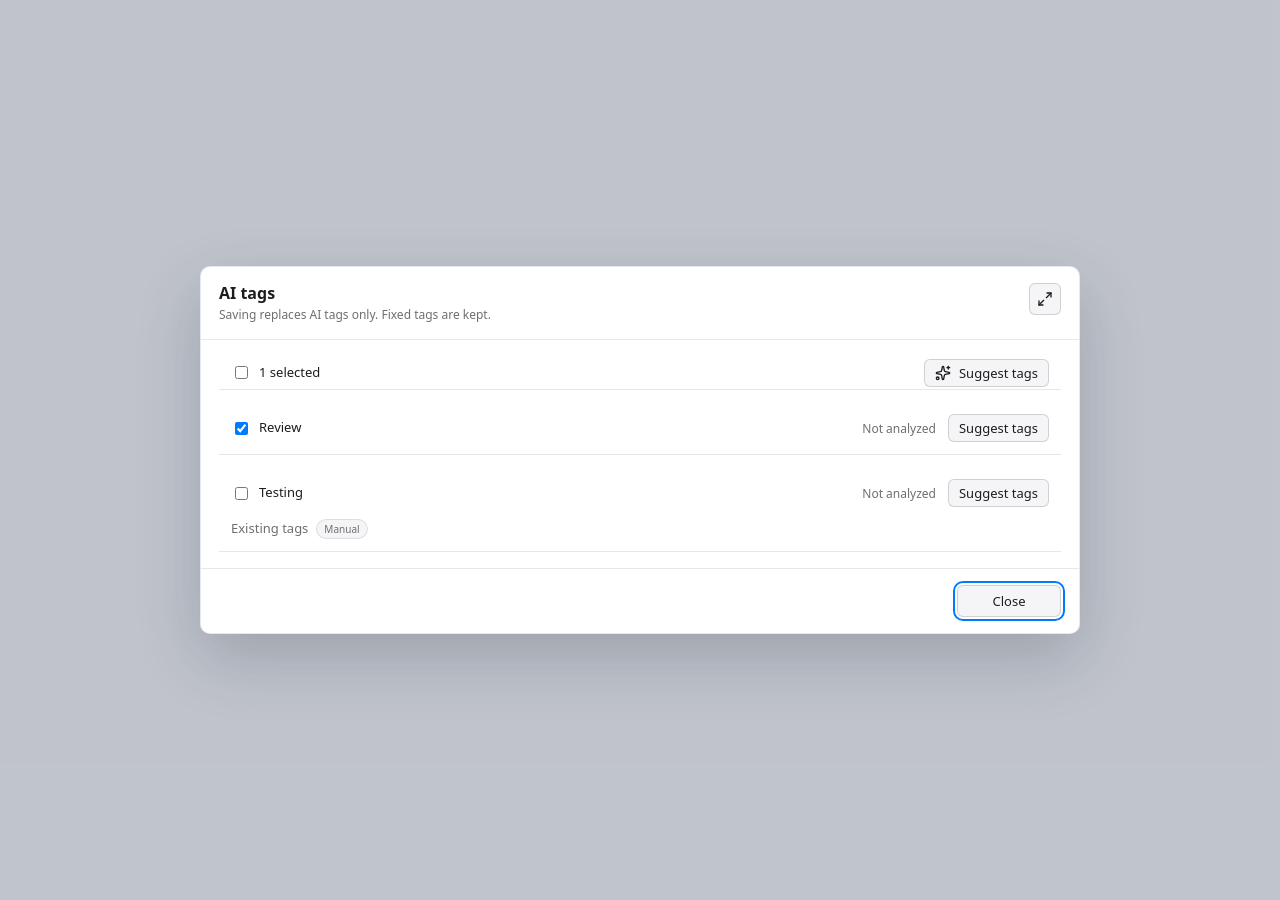
Test: AI tag review › offers configuration in place without generating or losing selection
Click the button "Suggest tags" in the row of "1 selected" at (986, 372), box [924,358,1049,386]
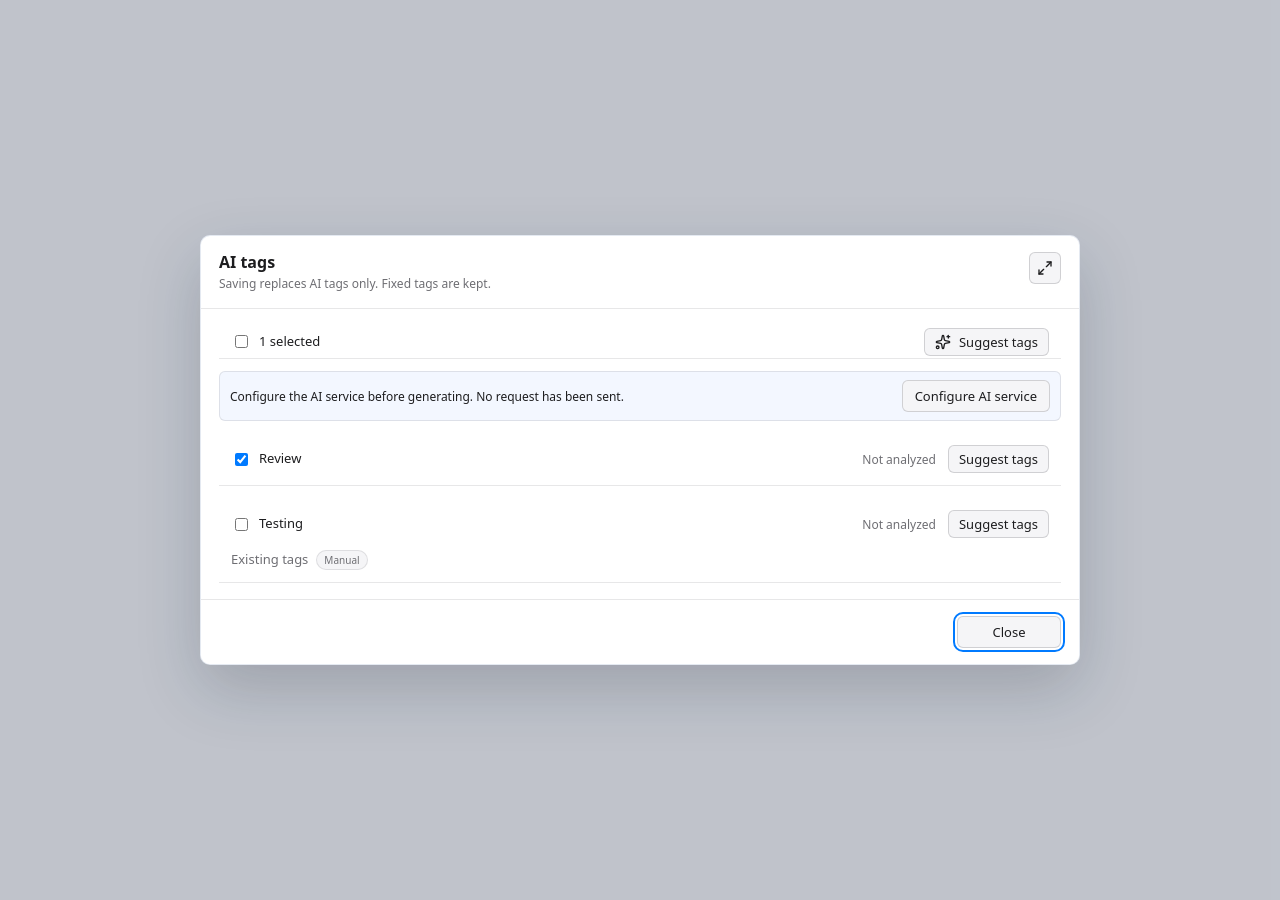
Click the button "Configure AI service" at (976, 396), box [902,380,1050,412]
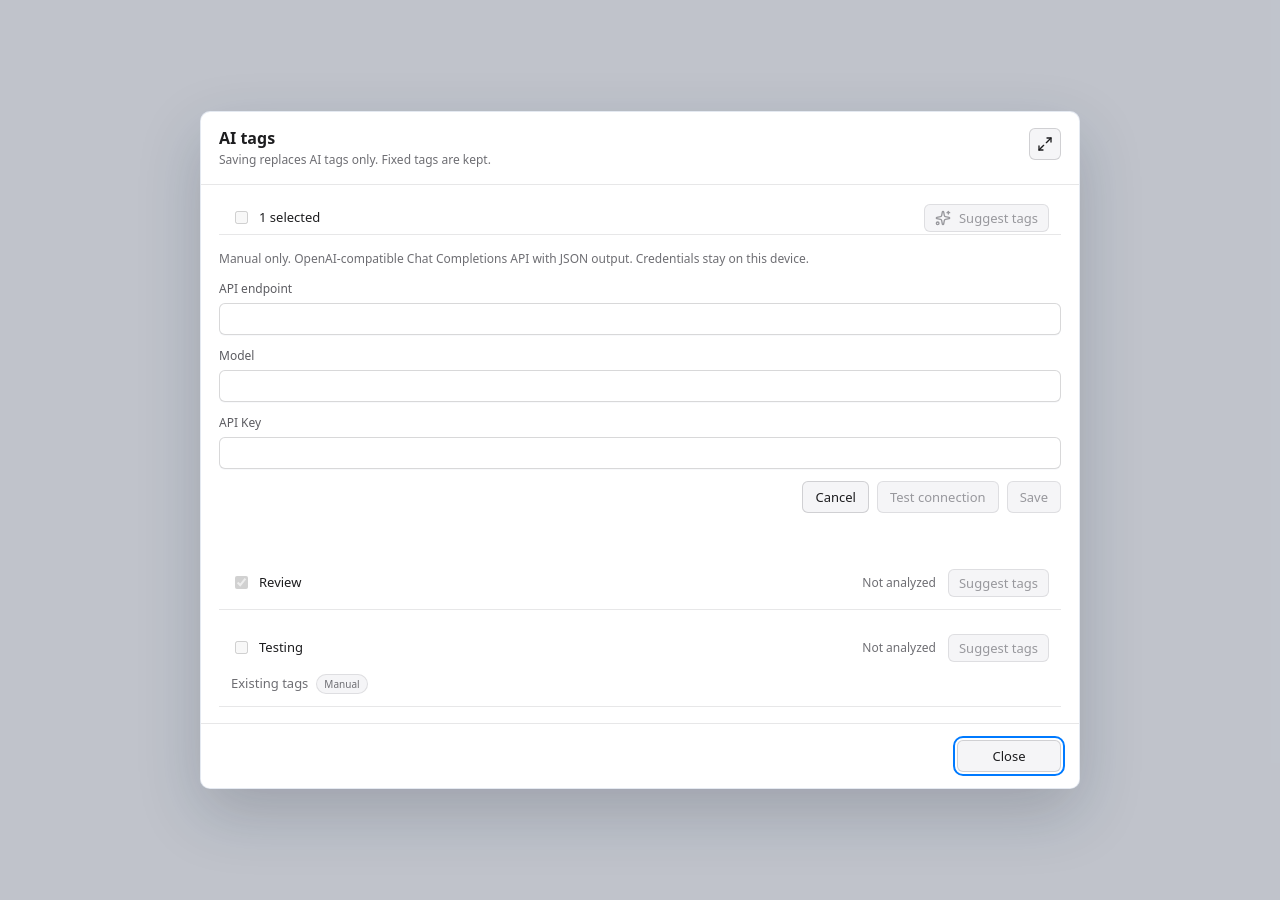
Result: the field labelled "API endpoint" is shown at [219,303,1061,335]
Result: the button "Suggest tags" in the row of "1 selected" is disabled at [924,204,1049,232]
Result: the button "Suggest tags" in the row of "Review" is disabled at [948,569,1049,597]
